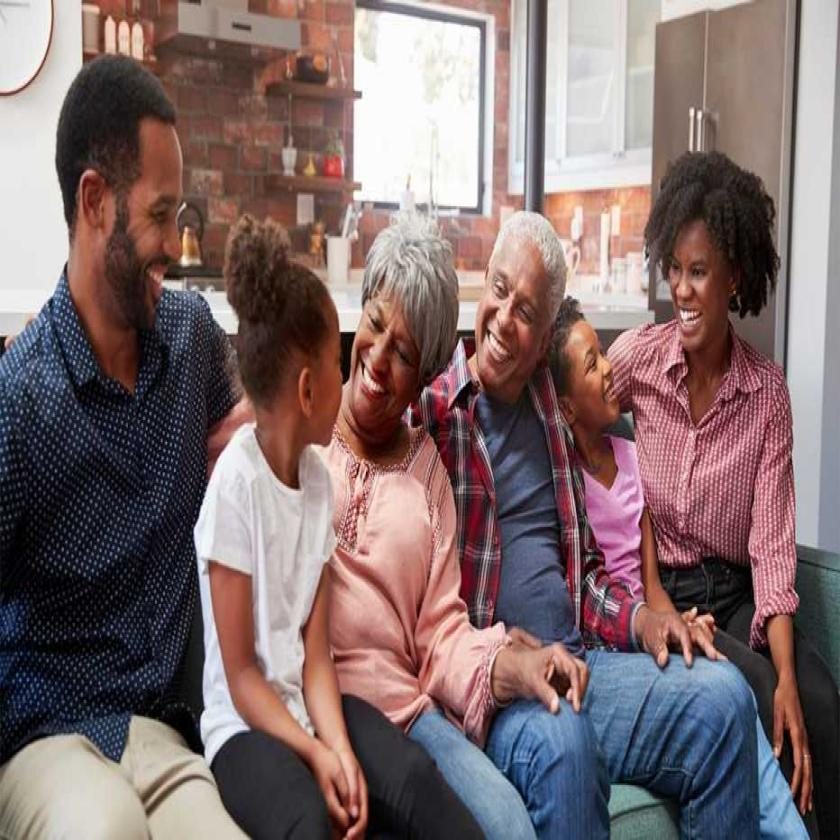Sin_casco: (52, 47, 200, 313), (224, 182, 352, 462), (641, 137, 786, 378), (356, 205, 450, 440), (482, 194, 554, 402), (559, 314, 619, 433)
